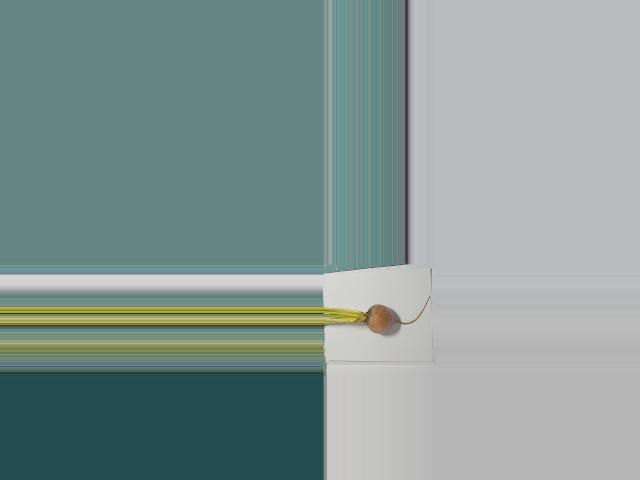beet: (323, 296, 430, 333)
